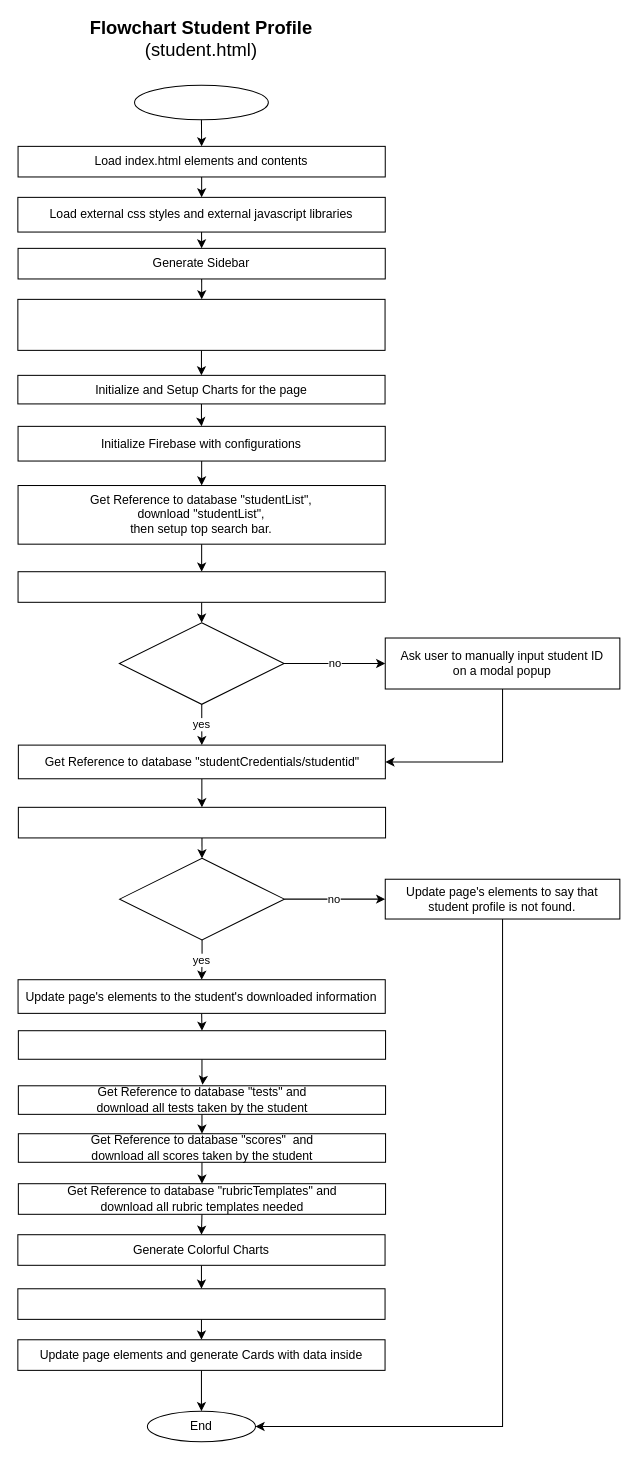
Image size: 639x1460. Some labels were removed from this diagram. Here are the shapes that lost their labels. From the top down, the centre of each, then its label:
the point at 201,102: Start
the point at 201,324: Check URLParams for subject and select the subject form the dropdown list
the point at 201,586: Check for target Student ID to view from URLParams
the point at 201,663: Student ID exists in query string?
the point at 201,822: Download student profile data
the point at 201,898: Student Profile Exists?
the point at 201,1044: Check Filtered Subjects
the point at 201,1303: Process score (calculate excelling/struggling, average score, etc.)
